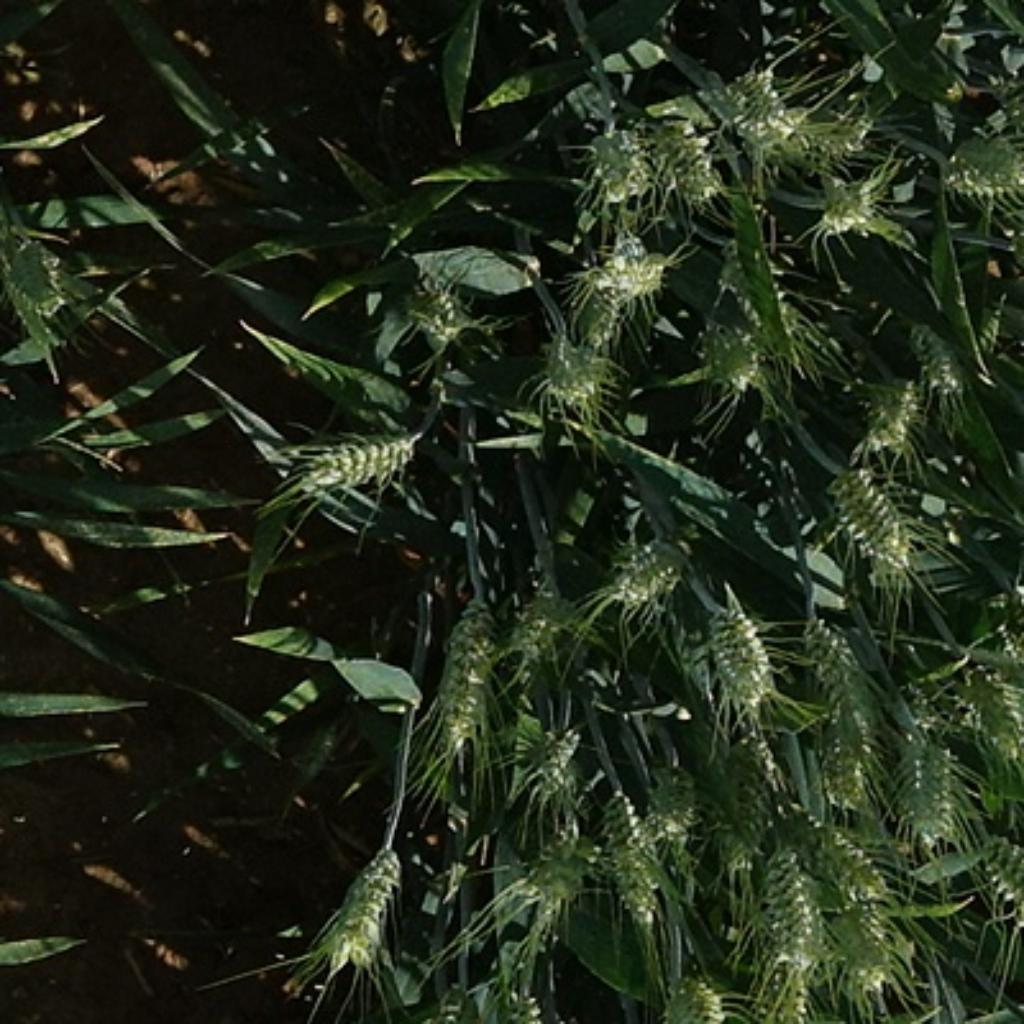0-0: (801, 606, 888, 803), (417, 583, 512, 755), (714, 48, 832, 158), (319, 835, 409, 972), (942, 616, 1024, 762), (819, 458, 921, 573), (744, 834, 829, 970), (770, 814, 890, 906), (289, 419, 422, 499), (504, 581, 599, 688), (565, 232, 670, 327), (719, 721, 796, 849), (0, 220, 77, 340), (885, 724, 965, 839), (386, 279, 499, 360), (596, 788, 665, 919), (693, 596, 775, 706), (601, 522, 696, 614), (509, 814, 599, 911), (504, 709, 586, 806), (688, 302, 778, 389), (529, 320, 616, 409), (832, 895, 902, 1002), (640, 115, 719, 204), (852, 366, 934, 450), (576, 117, 657, 199), (785, 99, 875, 171), (906, 312, 983, 394), (940, 134, 1024, 208), (647, 739, 704, 847), (965, 844, 1024, 939), (811, 168, 890, 238), (756, 936, 819, 1023), (659, 965, 730, 1024), (1021, 832, 1024, 936)
